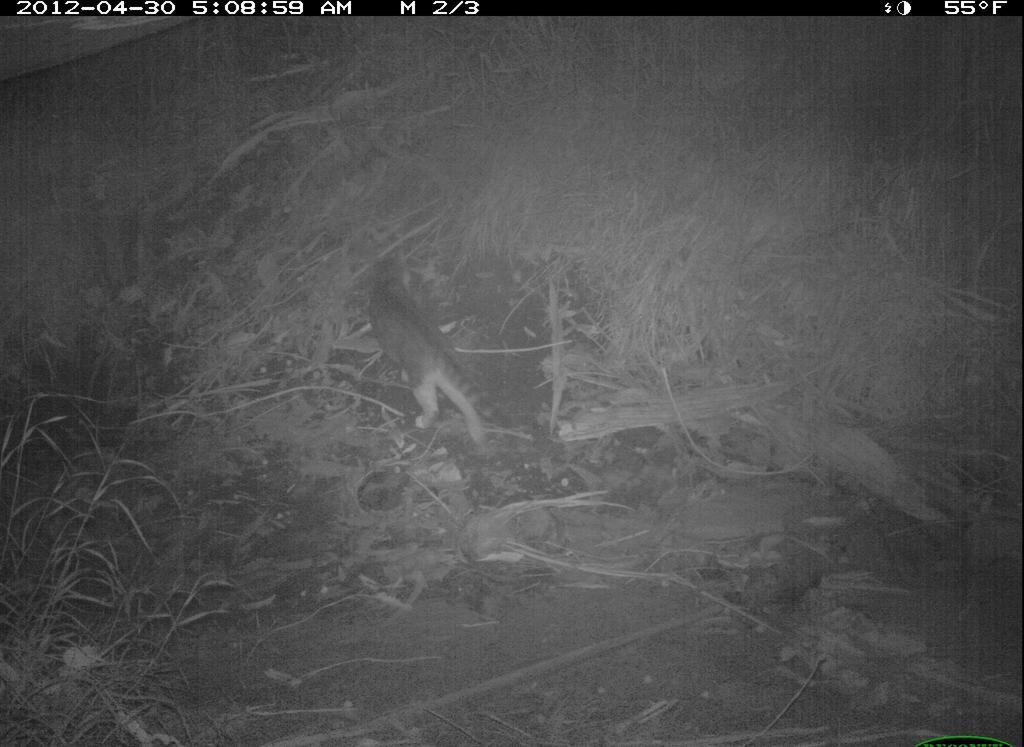cat: (363, 264, 507, 457)
